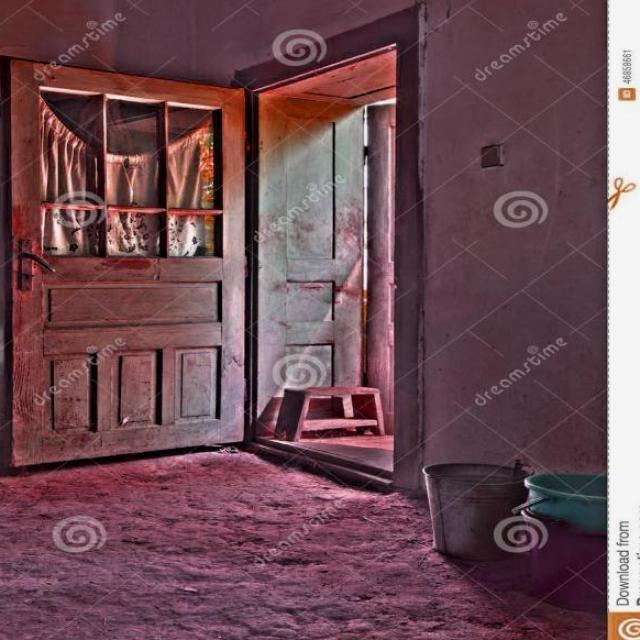door: (6, 56, 246, 469)
